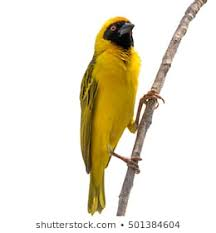target: (79, 10, 166, 220)
